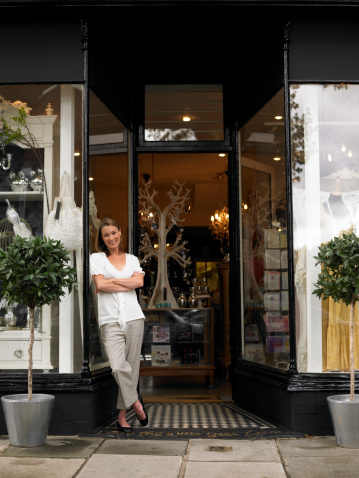em pe: (92, 221, 144, 425)
